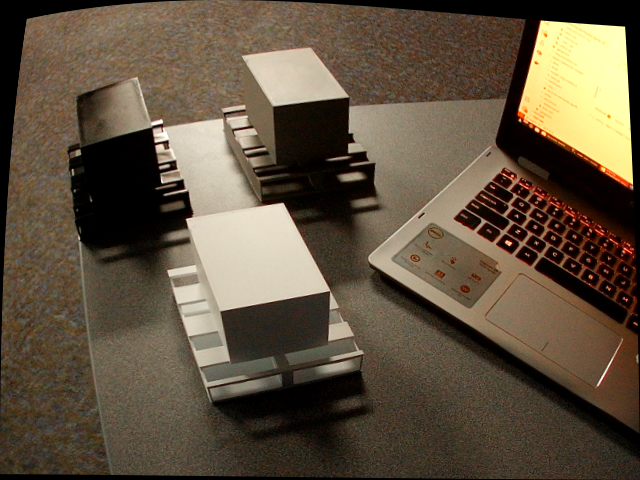black pallet: (63, 74, 192, 245)
grey pallet: (217, 41, 379, 205)
white pallet: (165, 198, 370, 413)
